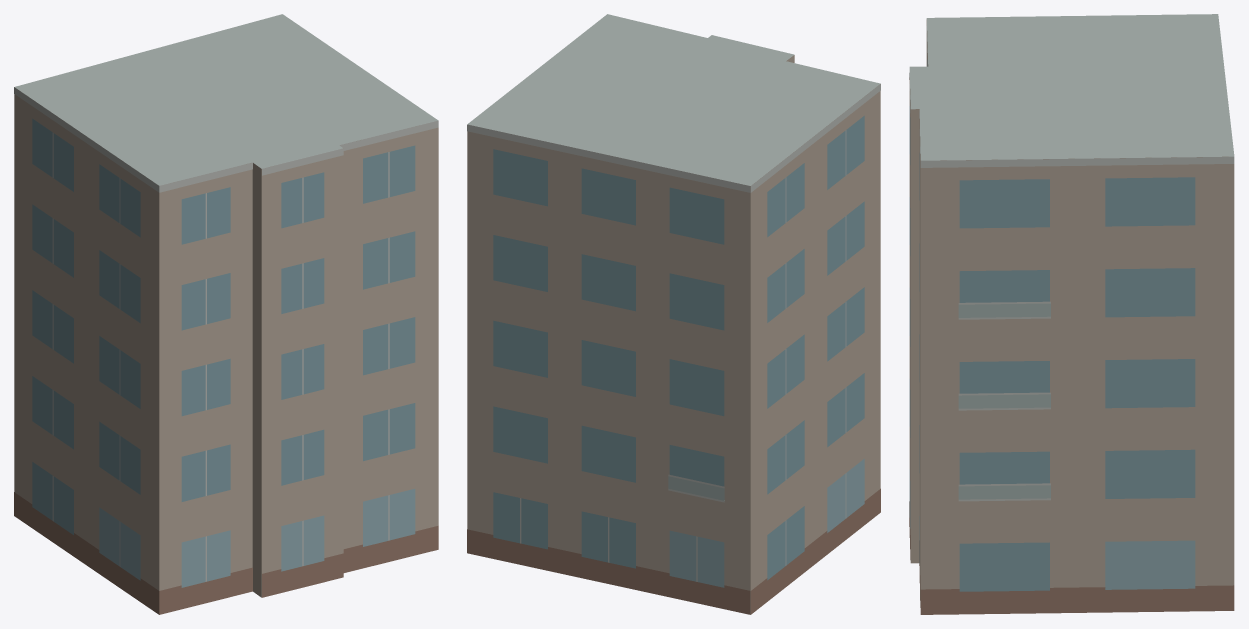
The model's file is survey-upis-32827897.glb.
3 renders of one model, left to right at view 1: azimuth 30°, elevation 25°; view 2: azimuth 150°, elevation 25°; view 3: azimuth 270°, elevation 25°, orthographic. The views are drawn at different scales.
Parts seen in each view (by area): view 1: survey-upis-32827897.tmp; view 2: survey-upis-32827897.tmp; view 3: survey-upis-32827897.tmp.
Boxes of the visible parts, x1,y1,x2,y2 form: survey-upis-32827897.tmp: (14,14,438,614); survey-upis-32827897.tmp: (467,14,880,614); survey-upis-32827897.tmp: (909,14,1234,614).
Size of the model in its own units: 10.57 by 15.25 by 9.9.
